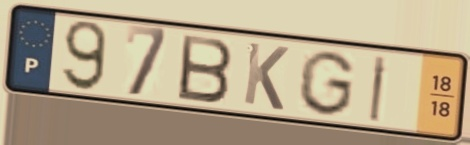7: (123, 21, 168, 102)
9: (58, 19, 111, 94)
B: (175, 31, 236, 106)
G: (294, 48, 358, 119)
I: (366, 53, 390, 125)
K: (240, 39, 292, 114)
